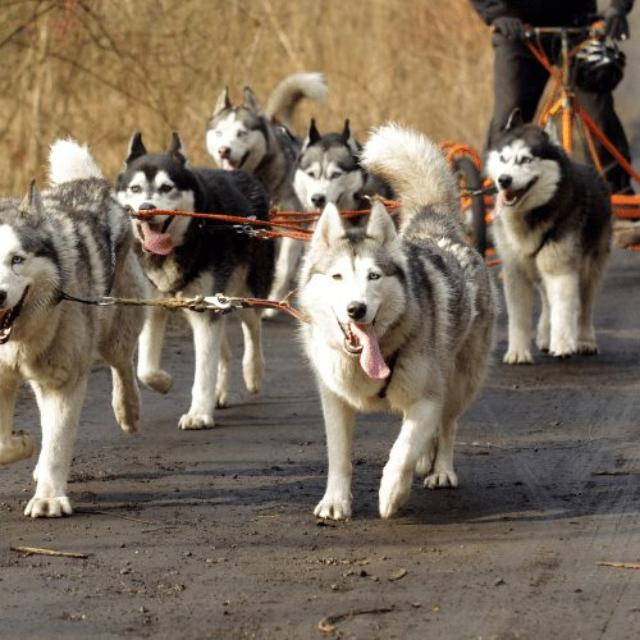dog: (278, 195, 502, 525)
